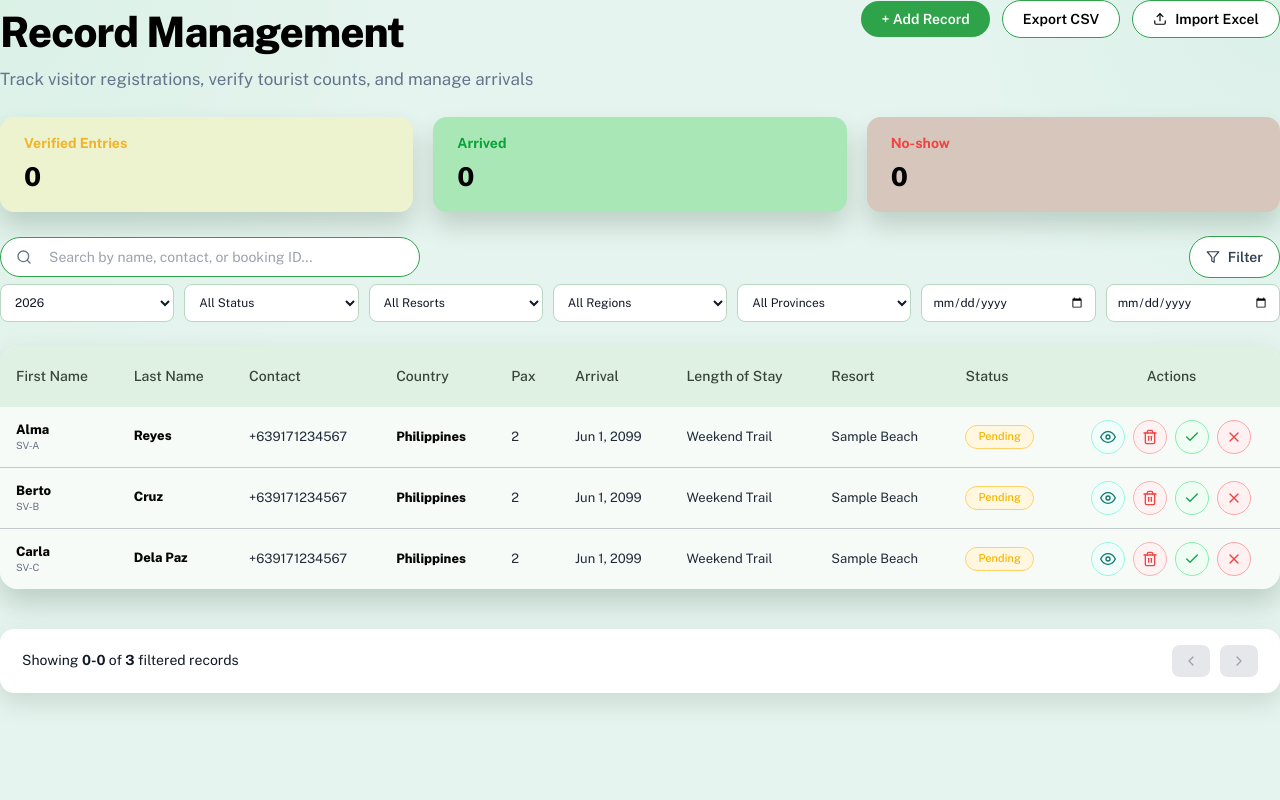
Test: the Boat Capacity and Fare dropdown of the record form › is switched off for a boat that takes no fare
Click the button with class "booking-icon-btn" in the row of "Berto" at (1108, 498), box [1091,480,1125,514]
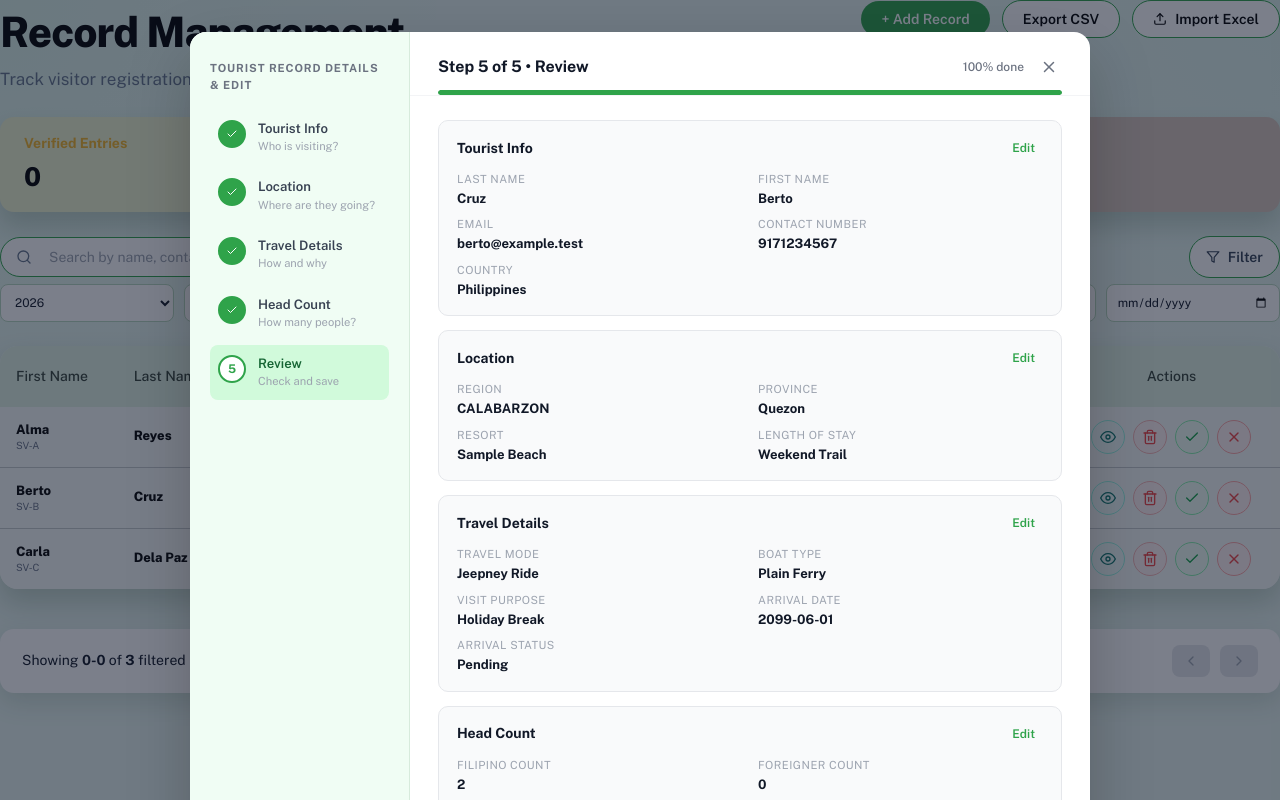
Expected: the text "Tourist Record Details & Edit" is shown, [210,60,389,94]
Click the text "Travel Details" at (280, 254), box [218,237,342,270]
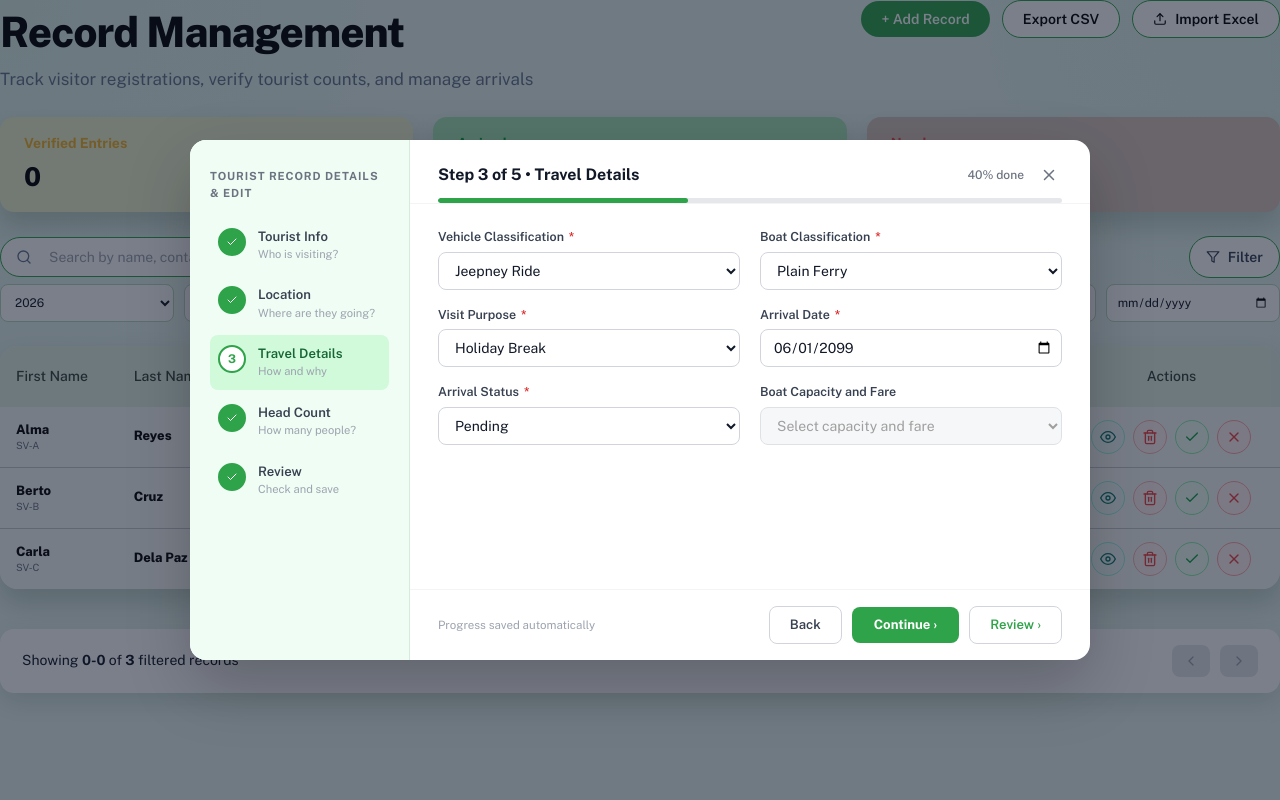
Expected: the dropdown "Select capacity and fare" below "Boat Capacity and Fare" is disabled, [760,407,1062,445]
